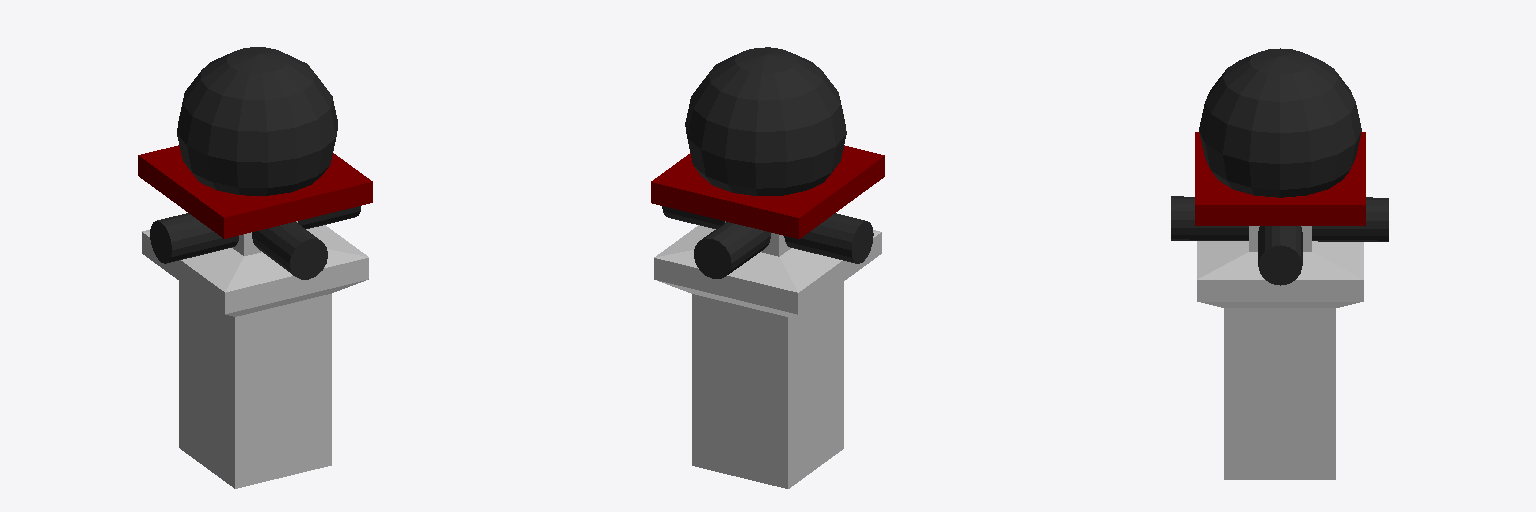
The model's file is Bombard.obj.
3 views of the same model, side by side, from view 1: azimuth 30°, elevation 25°; view 2: azimuth 150°, elevation 25°; view 3: azimuth 270°, elevation 25° (orthographic).
Parts seen in each view (by area): view 1: Cube15; view 2: Cube15; view 3: Cube15.
Part boxes in pixels (bbox=[...]): Cube15: bbox=[138, 47, 372, 488]; Cube15: bbox=[651, 47, 884, 488]; Cube15: bbox=[1171, 48, 1388, 479].
Size of the model in its own units: 1.23 by 2.49 by 1.22.